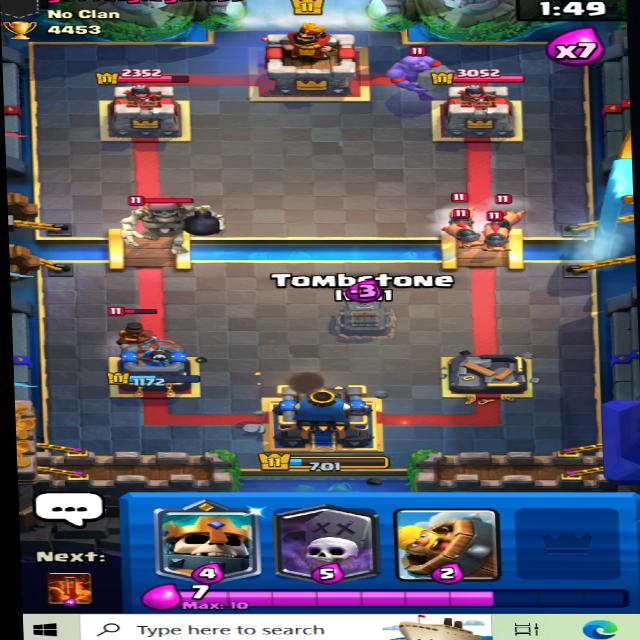bowler: (388, 47, 469, 103)
giant-skeleton: (110, 183, 234, 246)
ram-rider: (101, 298, 173, 356)
royal-hogs: (443, 208, 480, 251), (475, 212, 509, 255), (492, 193, 525, 237), (445, 194, 473, 227)
